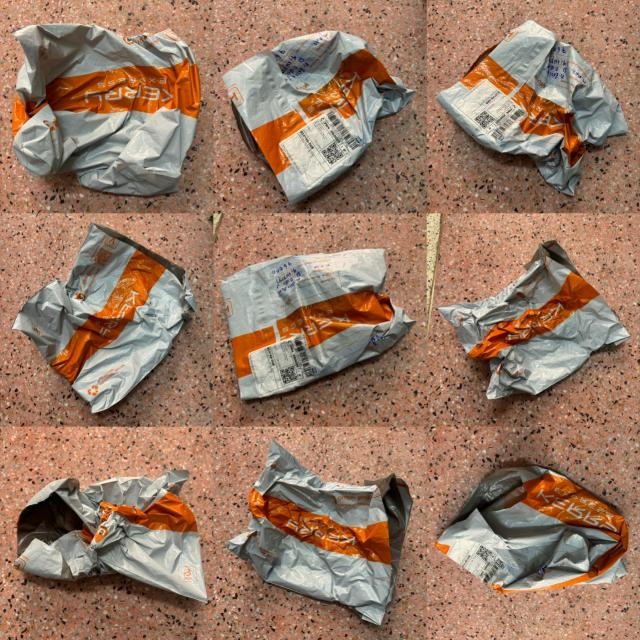Single-layer Plastic: (12, 224, 195, 412), (226, 441, 412, 624), (438, 20, 629, 194), (222, 31, 414, 204), (12, 24, 200, 194), (440, 241, 629, 399), (221, 249, 415, 400), (15, 470, 208, 602), (436, 466, 629, 592)
